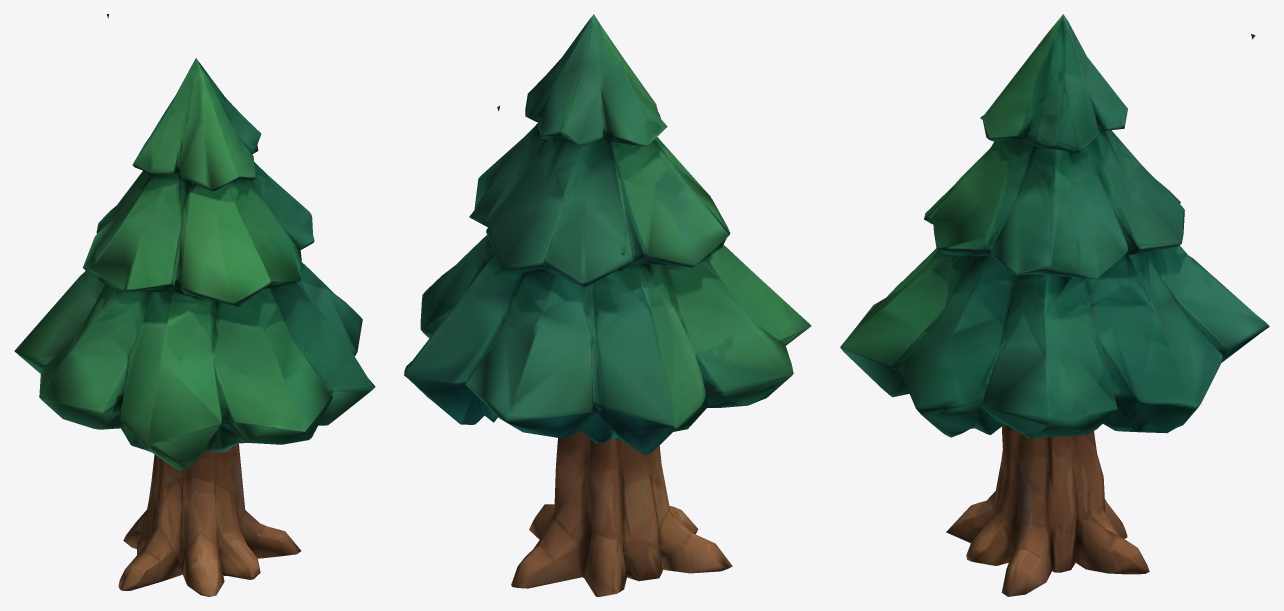
Rendered from tree_meadow_pine.glb.
3 renders of one model, left to right at view 1: azimuth 30°, elevation 25°; view 2: azimuth 150°, elevation 25°; view 3: azimuth 270°, elevation 25°, orthographic. The views are drawn at different scales.
Parts seen in each view (by area): view 1: BakeLow; view 2: BakeLow; view 3: BakeLow.
Part boxes in pixels (x1=…): BakeLow: x1=14, y1=14, x2=375, y2=596; BakeLow: x1=404, y1=14, x2=811, y2=596; BakeLow: x1=840, y1=14, x2=1269, y2=596.
Size of the model in its own units: 0.5963 by 0.858 by 0.6183.
1 material, 1 textured.
